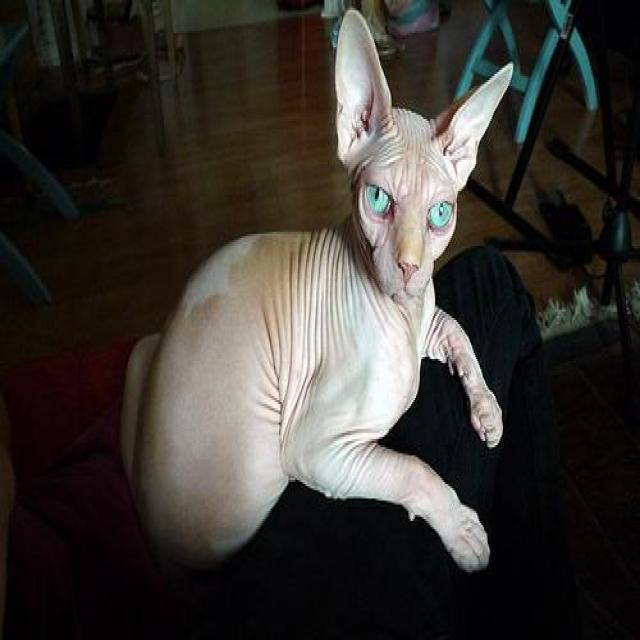cat: (119, 6, 513, 572)
